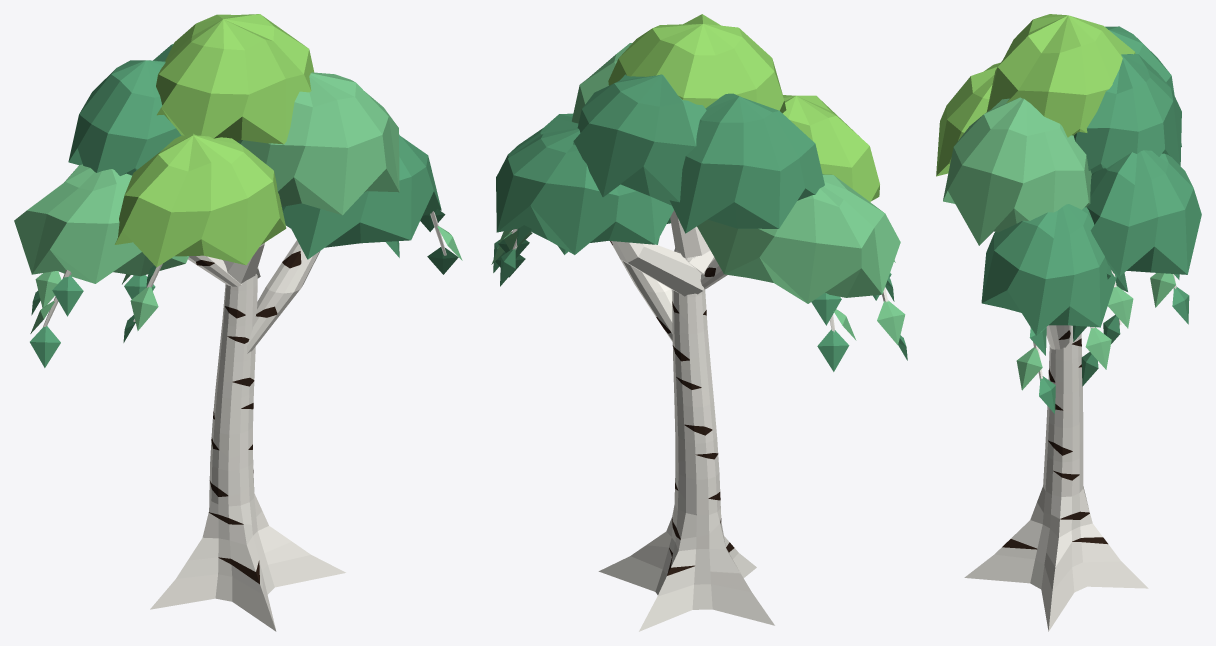
The model's file is SilverBirch.glb.
3 views of the same model, side by side, from view 1: azimuth 30°, elevation 25°; view 2: azimuth 150°, elevation 25°; view 3: azimuth 270°, elevation 25° (orthographic). The views are drawn at different scales.
Visible parts, largest first — view 1: SilverBirch; view 2: SilverBirch; view 3: SilverBirch.
Boxes of the visible parts, x1,y1,x2,y2 form: SilverBirch: (14, 14, 462, 631); SilverBirch: (491, 14, 907, 631); SilverBirch: (936, 14, 1201, 631).
Size of the model in its own units: 3.2 by 4.2 by 1.8.
Materials: 1 (1 with a texture image).
